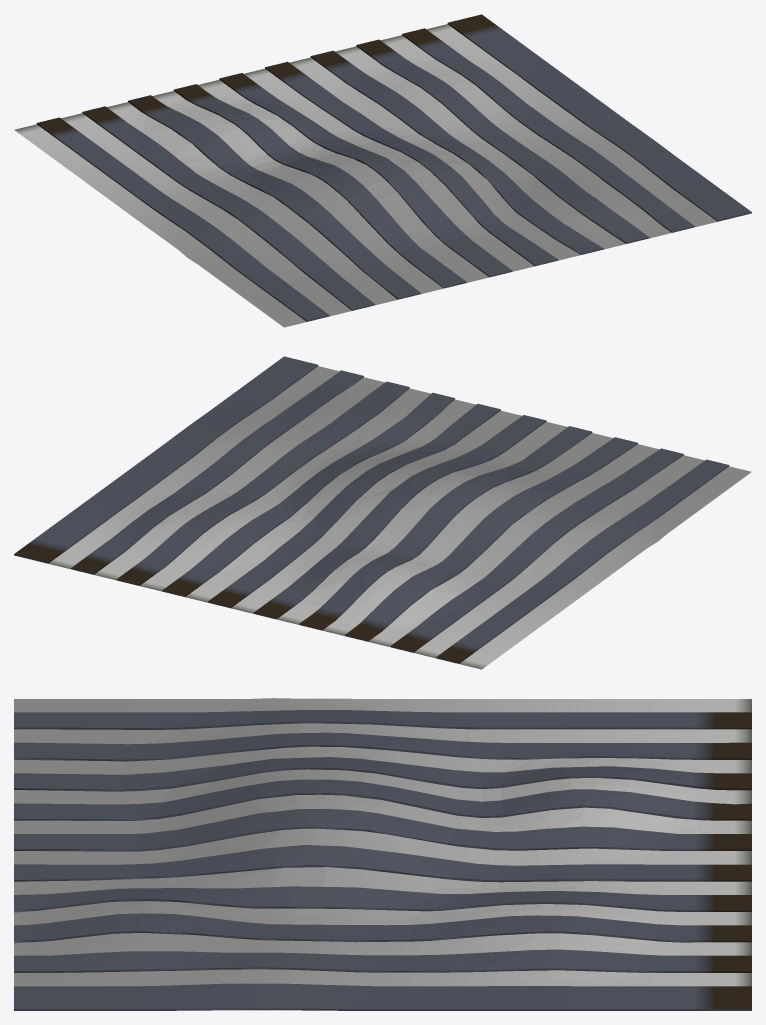
File: Terrain_12.fbx
3 views of the same model, one above another, from view 1: azimuth 30°, elevation 25°; view 2: azimuth 150°, elevation 25°; view 3: azimuth 270°, elevation 25° (orthographic). The views are drawn at different scales.
Visible parts, largest first — view 1: Terrain_12; view 2: Terrain_12; view 3: Terrain_12.
Part boxes in pixels (x1,y1,x2,y2): Terrain_12: [14, 14, 751, 327]; Terrain_12: [14, 356, 751, 669]; Terrain_12: [14, 698, 751, 1010].
Bounding box in the file's own units: 128 × 5.53 × 128.
